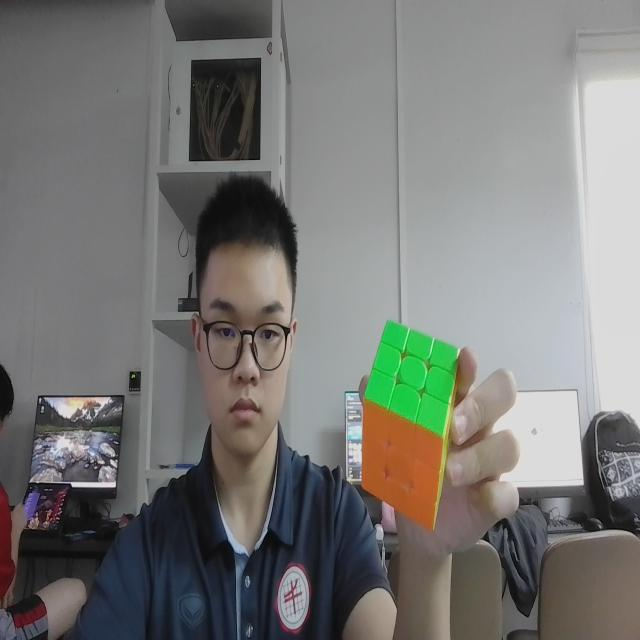rubik: (356, 307, 466, 547)
